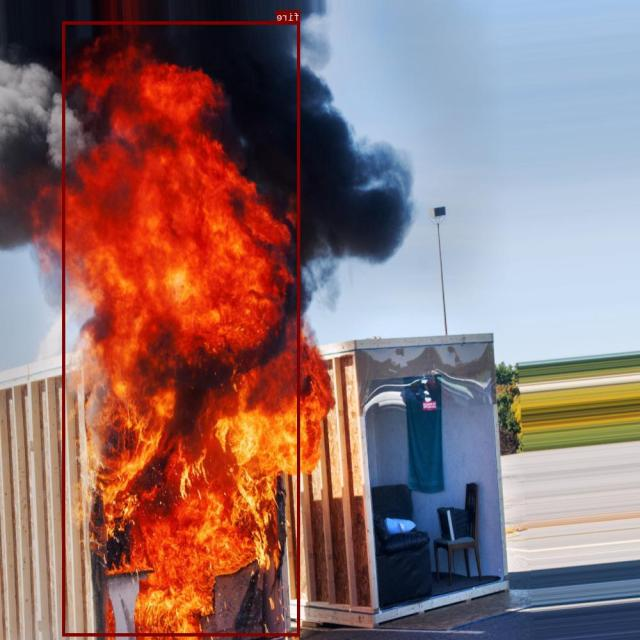fire: (63, 21, 300, 636)
